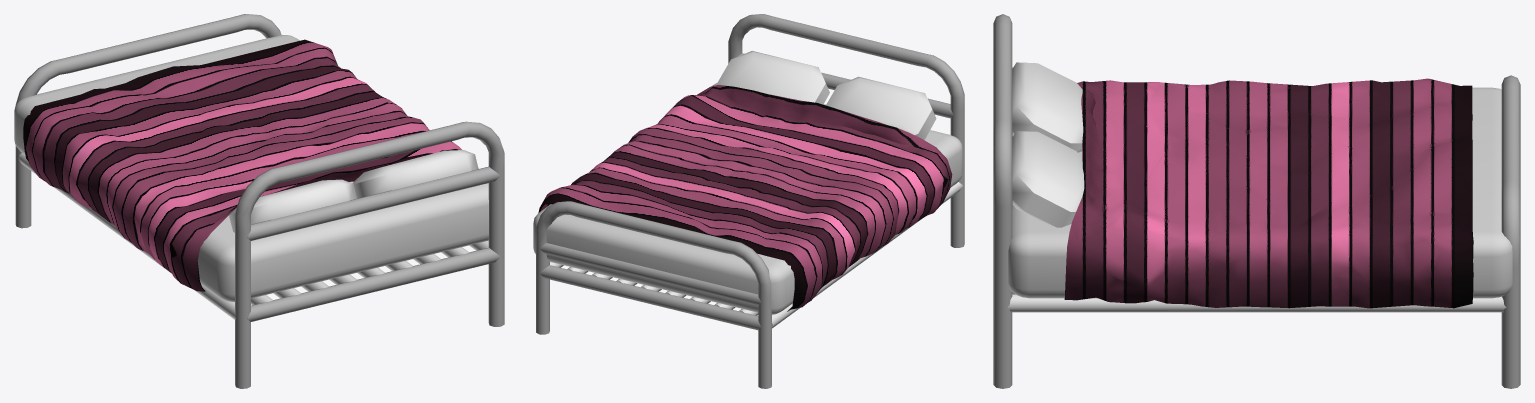
File: Bed.fbx
The picture shows the model from 3 angles, left to right: view 1: azimuth 30°, elevation 25°; view 2: azimuth 150°, elevation 25°; view 3: azimuth 270°, elevation 25°; orthographic projection. The views are drawn at different scales.
Parts seen in each view (by area): view 1: Bed; view 2: Bed; view 3: Bed.
Boxes of the visible parts, x1=… form: Bed: x1=14, y1=14, x2=504, y2=388; Bed: x1=533, y1=14, x2=964, y2=388; Bed: x1=993, y1=14, x2=1520, y2=388.
Size of the model in its own units: 719 by 460 by 908.
6 materials, 1 textured.
